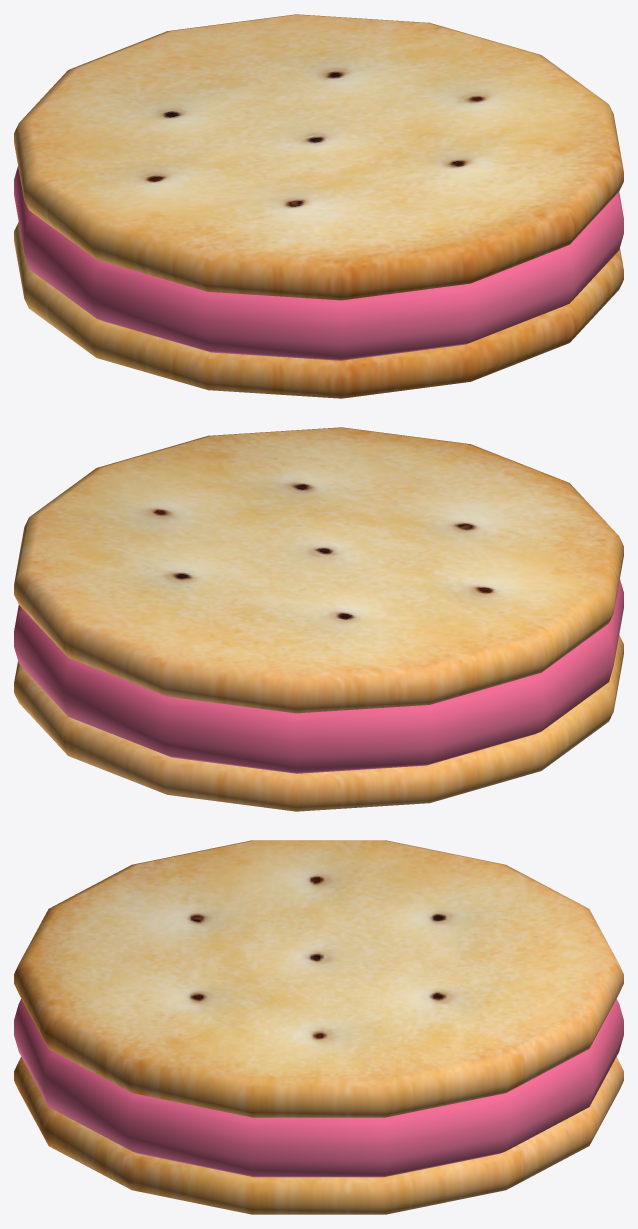
Rendered from candy_waf_21.fbx.
The picture shows the model from 3 angles, top to bottom: view 1: azimuth 30°, elevation 25°; view 2: azimuth 150°, elevation 25°; view 3: azimuth 270°, elevation 25°; orthographic projection.
Parts seen in each view (by area): view 1: c_w_21; view 2: c_w_21; view 3: c_w_21.
Part boxes in pixels (<box>): c_w_21: <box>14,14,623,398</box>; c_w_21: <box>14,427,623,811</box>; c_w_21: <box>14,840,623,1214</box>.
Size of the model in its own units: 173 by 43.55 by 177.
